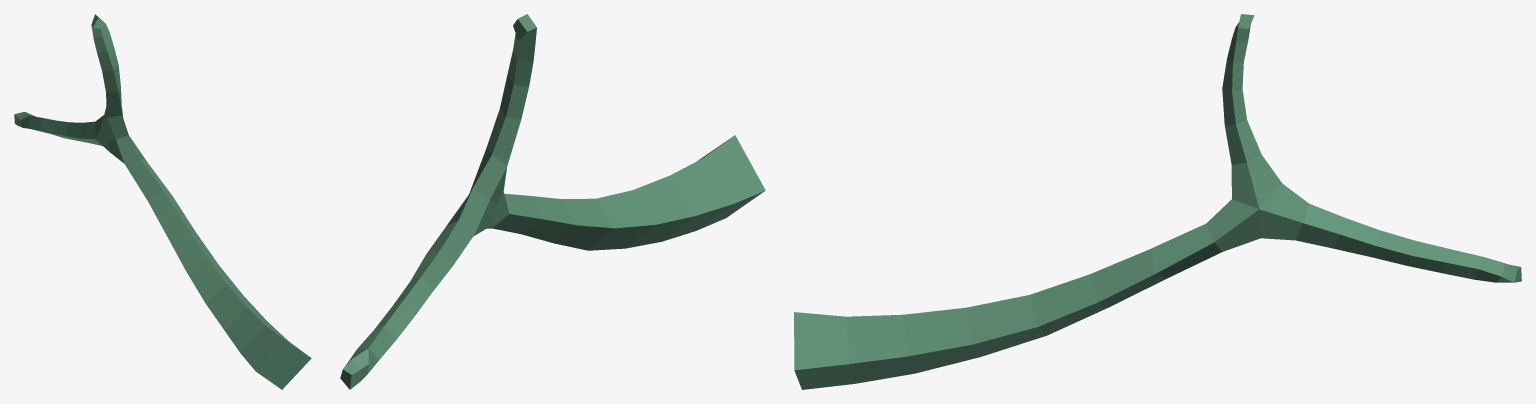
File: Branch_01_Lod1.fbx
3 renders of one model, left to right at view 1: azimuth 30°, elevation 25°; view 2: azimuth 150°, elevation 25°; view 3: azimuth 270°, elevation 25°, orthographic. The views are drawn at different scales.
Visible parts, largest first — view 1: Branch_01_Lod1; view 2: Branch_01_Lod1; view 3: Branch_01_Lod1.
Boxes of the visible parts, bbox=[...] form: Branch_01_Lod1: bbox=[14, 14, 311, 389]; Branch_01_Lod1: bbox=[340, 14, 765, 389]; Branch_01_Lod1: bbox=[794, 14, 1521, 389].
Bounding box in the file's own units: 50.95 × 223 × 408.
